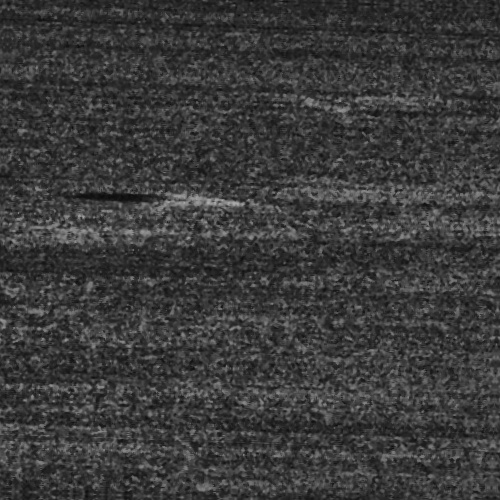object: (196, 195, 227, 200)
shadow: (116, 195, 211, 200)
